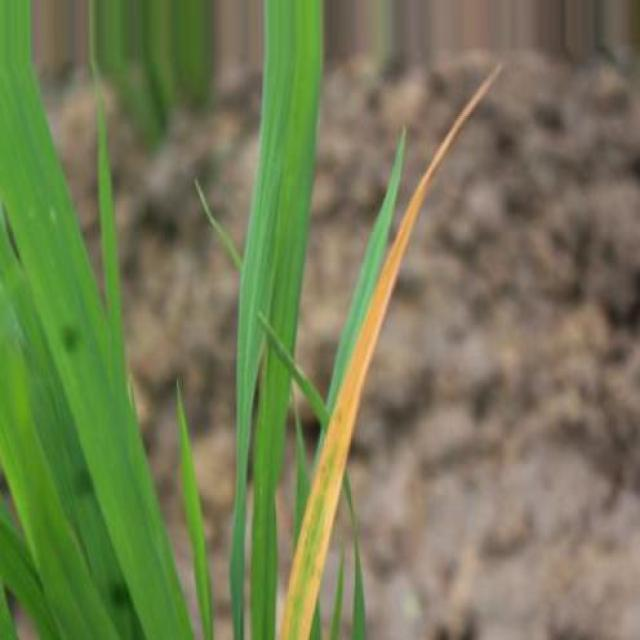Rice Tungro: (280, 66, 501, 639)
